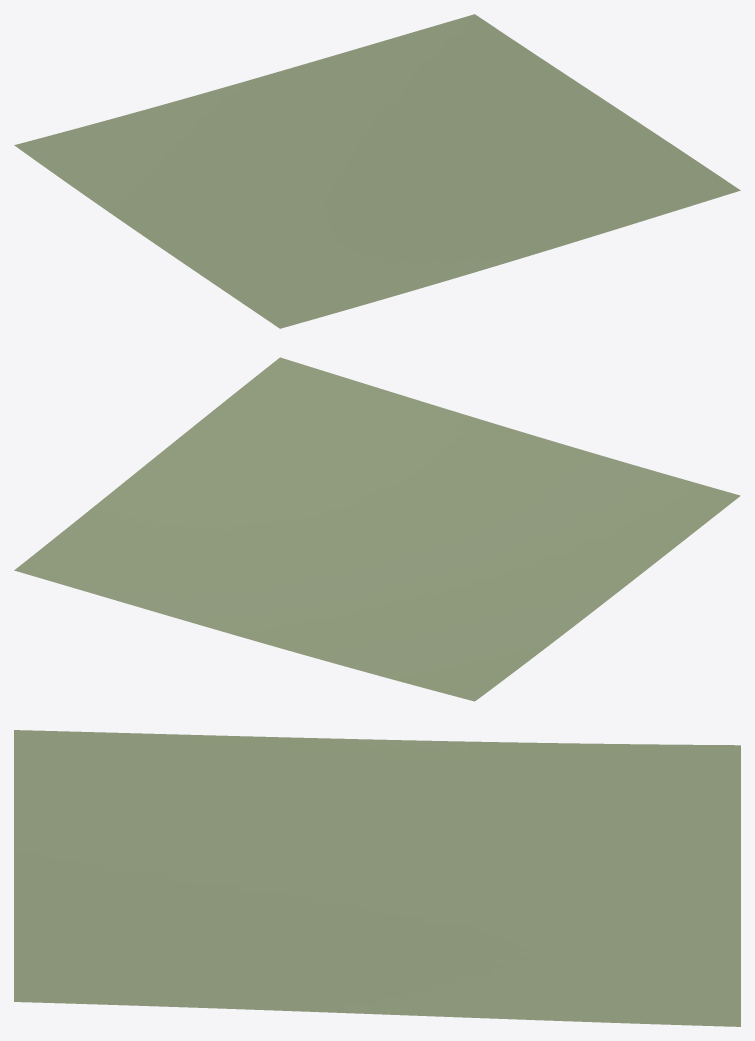
The model's file is expanse-11-3.glb.
3 views of the same model, one above another, from view 1: azimuth 30°, elevation 25°; view 2: azimuth 150°, elevation 25°; view 3: azimuth 270°, elevation 25° (orthographic). The views are drawn at different scales.
Parts seen in each view (by area): view 1: expanse-11-3; view 2: expanse-11-3; view 3: expanse-11-3.
Boxes of the visible parts, x1,y1,x2,y2 form: expanse-11-3: (14,14,740,328); expanse-11-3: (14,357,740,701); expanse-11-3: (14,730,740,1026).
Bounding box in the file's own units: 256 × 19.62 × 256.
